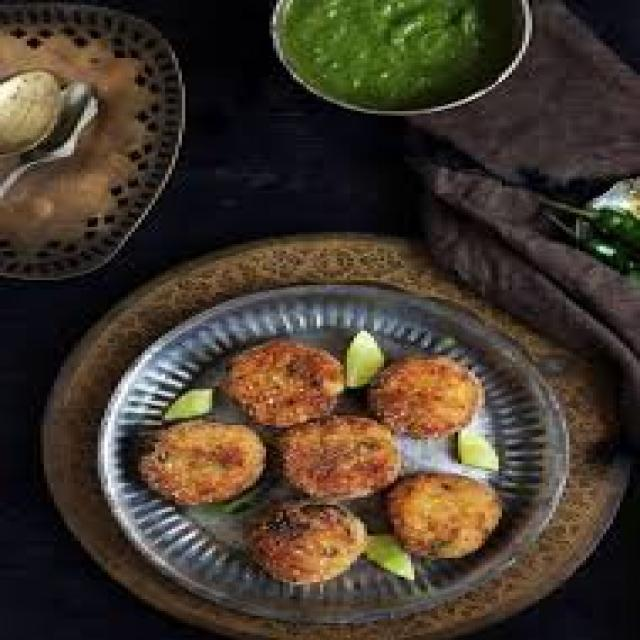Aloo Tikki: (140, 416, 264, 508), (279, 416, 406, 504), (226, 342, 341, 431), (385, 468, 499, 556), (246, 503, 364, 586), (372, 356, 482, 441)
